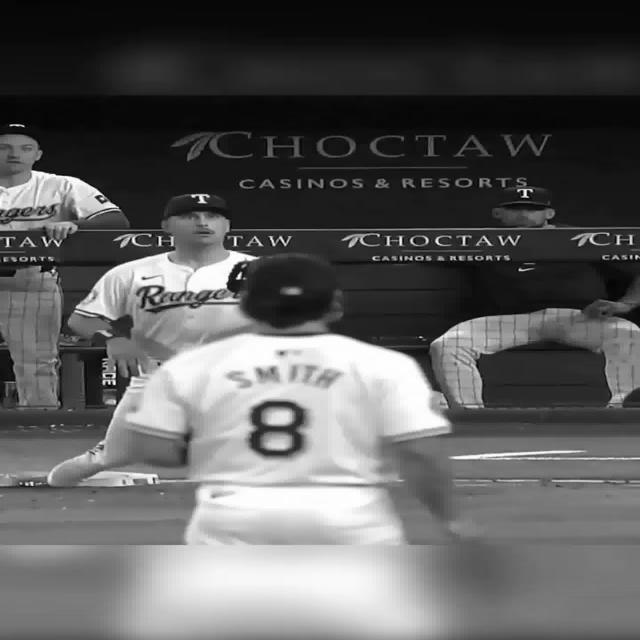base: (48, 472, 162, 484)
shoe: (46, 439, 160, 487)
